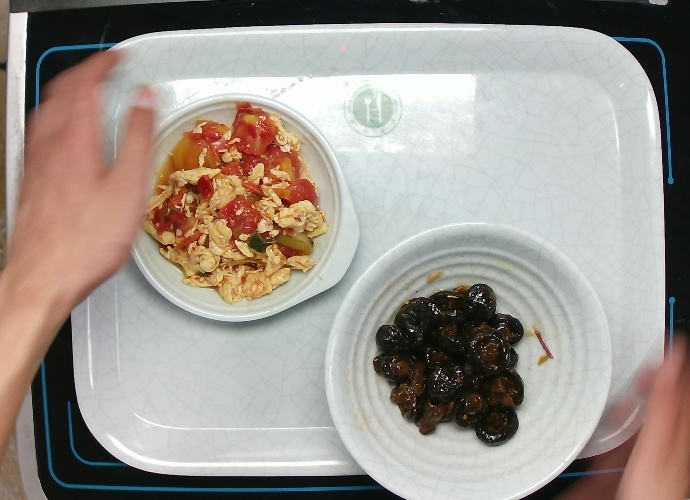JYsf-Shuang_Er_Pan: (117, 88, 366, 327)
JYsf-Xiao_Tang_Wan: (318, 215, 617, 499)
